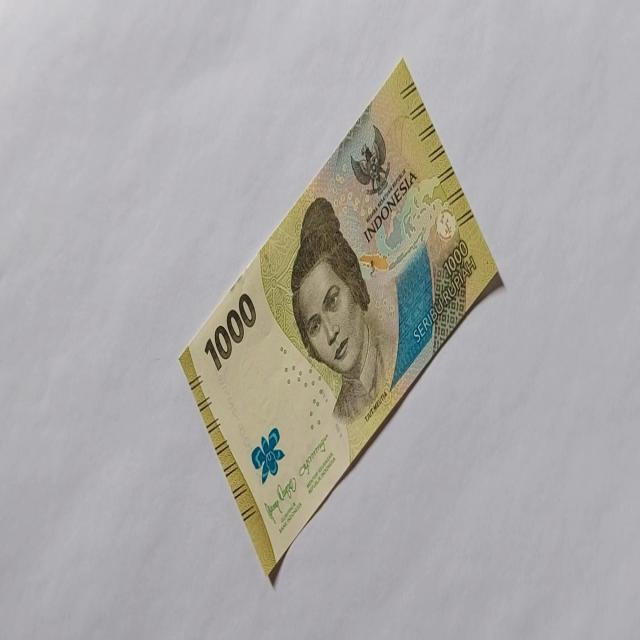seribu rupiah kertas: (177, 56, 504, 582)
